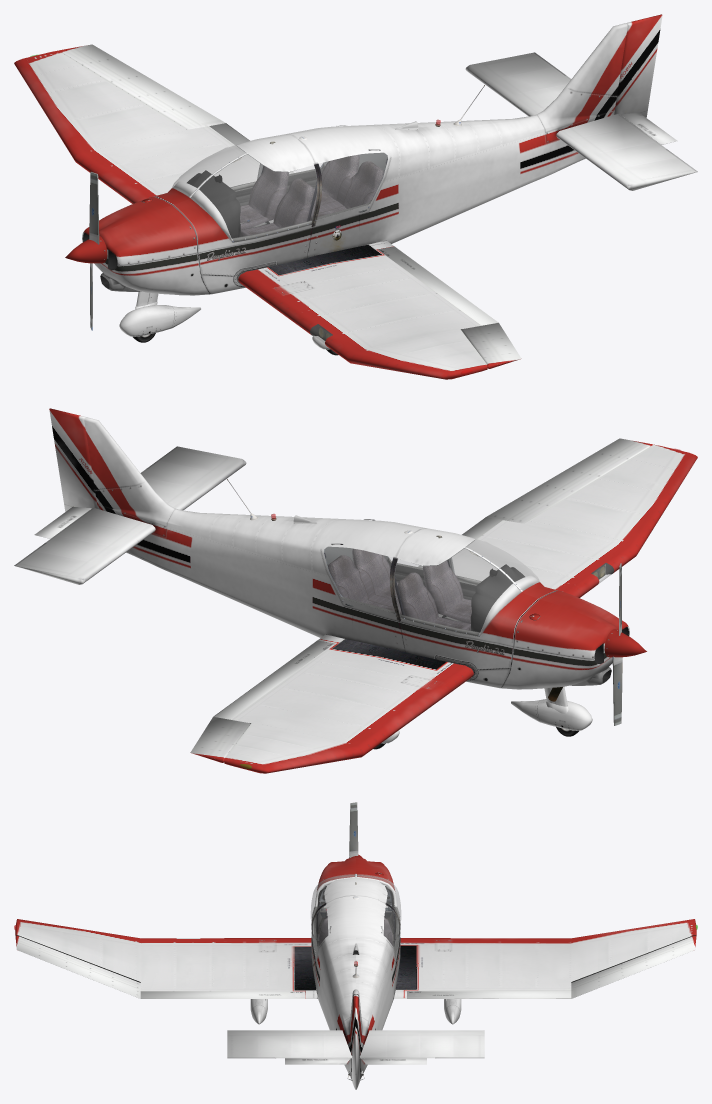
Rendered from robin_dr400.glb.
3 renders of one model, top to bottom at view 1: azimuth 30°, elevation 25°; view 2: azimuth 150°, elevation 25°; view 3: azimuth 270°, elevation 25°, orthographic. The views are drawn at different scales.
Visible parts, largest first — view 1: Object_48, Object_51, Object_49, Object_56, Object_38, Object_50, Object_22, Object_39; view 2: Object_48, Object_51, Object_49, Object_56, Object_38, Object_50, Object_22, Object_39; view 3: Object_51, Object_49, Object_48, Object_56, Object_50, Object_38, Object_39.
Part boxes in pixels (<box>): Object_48: <box>65,23,627,340</box>; Object_51: <box>14,50,487,379</box>; Object_49: <box>59,14,697,368</box>; Object_56: <box>172,145,387,344</box>; Object_38: <box>236,141,387,236</box>; Object_50: <box>173,85,677,355</box>; Object_22: <box>187,170,266,238</box>; Object_39: <box>190,146,387,242</box>; Object_48: <box>84,417,646,723</box>; Object_51: <box>224,444,697,773</box>; Object_49: <box>14,408,652,762</box>; Object_56: <box>324,539,613,636</box>; Object_38: <box>324,535,475,630</box>; Object_50: <box>34,479,562,701</box>; Object_22: <box>445,564,524,632</box>; Object_39: <box>324,540,521,636</box>; Object_51: <box>15,919,696,998</box>; Object_49: <box>15,802,696,1089</box>; Object_48: <box>16,854,695,1078</box>; Object_56: <box>177,874,401,957</box>; Object_50: <box>285,877,426,1077</box>; Object_38: <box>315,882,396,945</box>; Object_39: <box>311,874,400,958</box>.
Size of the model in its own units: 6.96 by 2.23 by 8.74.
Materials: 45 (41 with a texture image).
